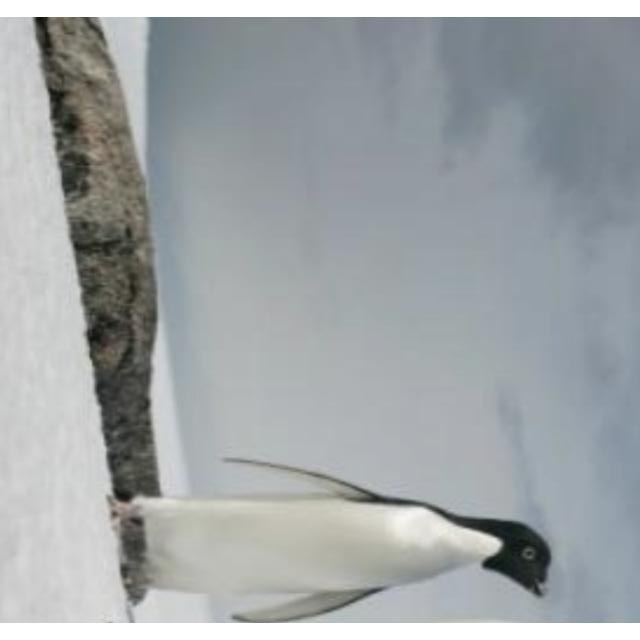penguin: (109, 459, 551, 620)
